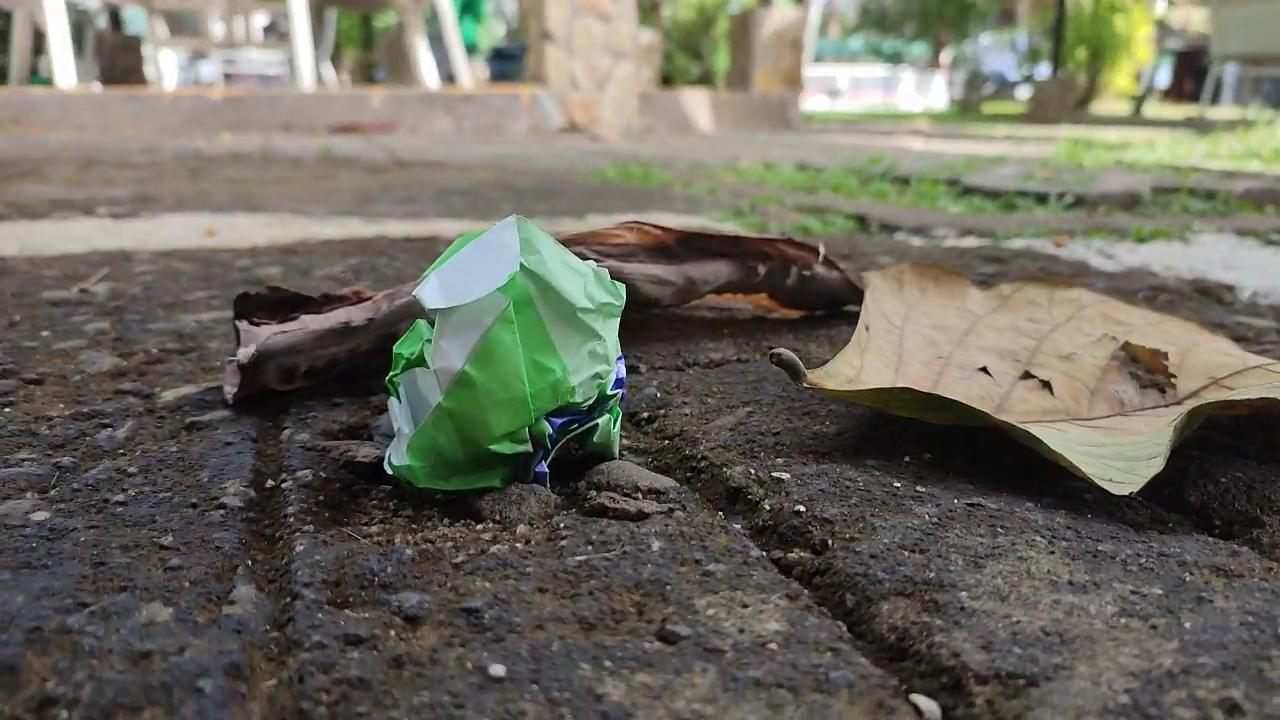Paper: (356, 201, 646, 532)
